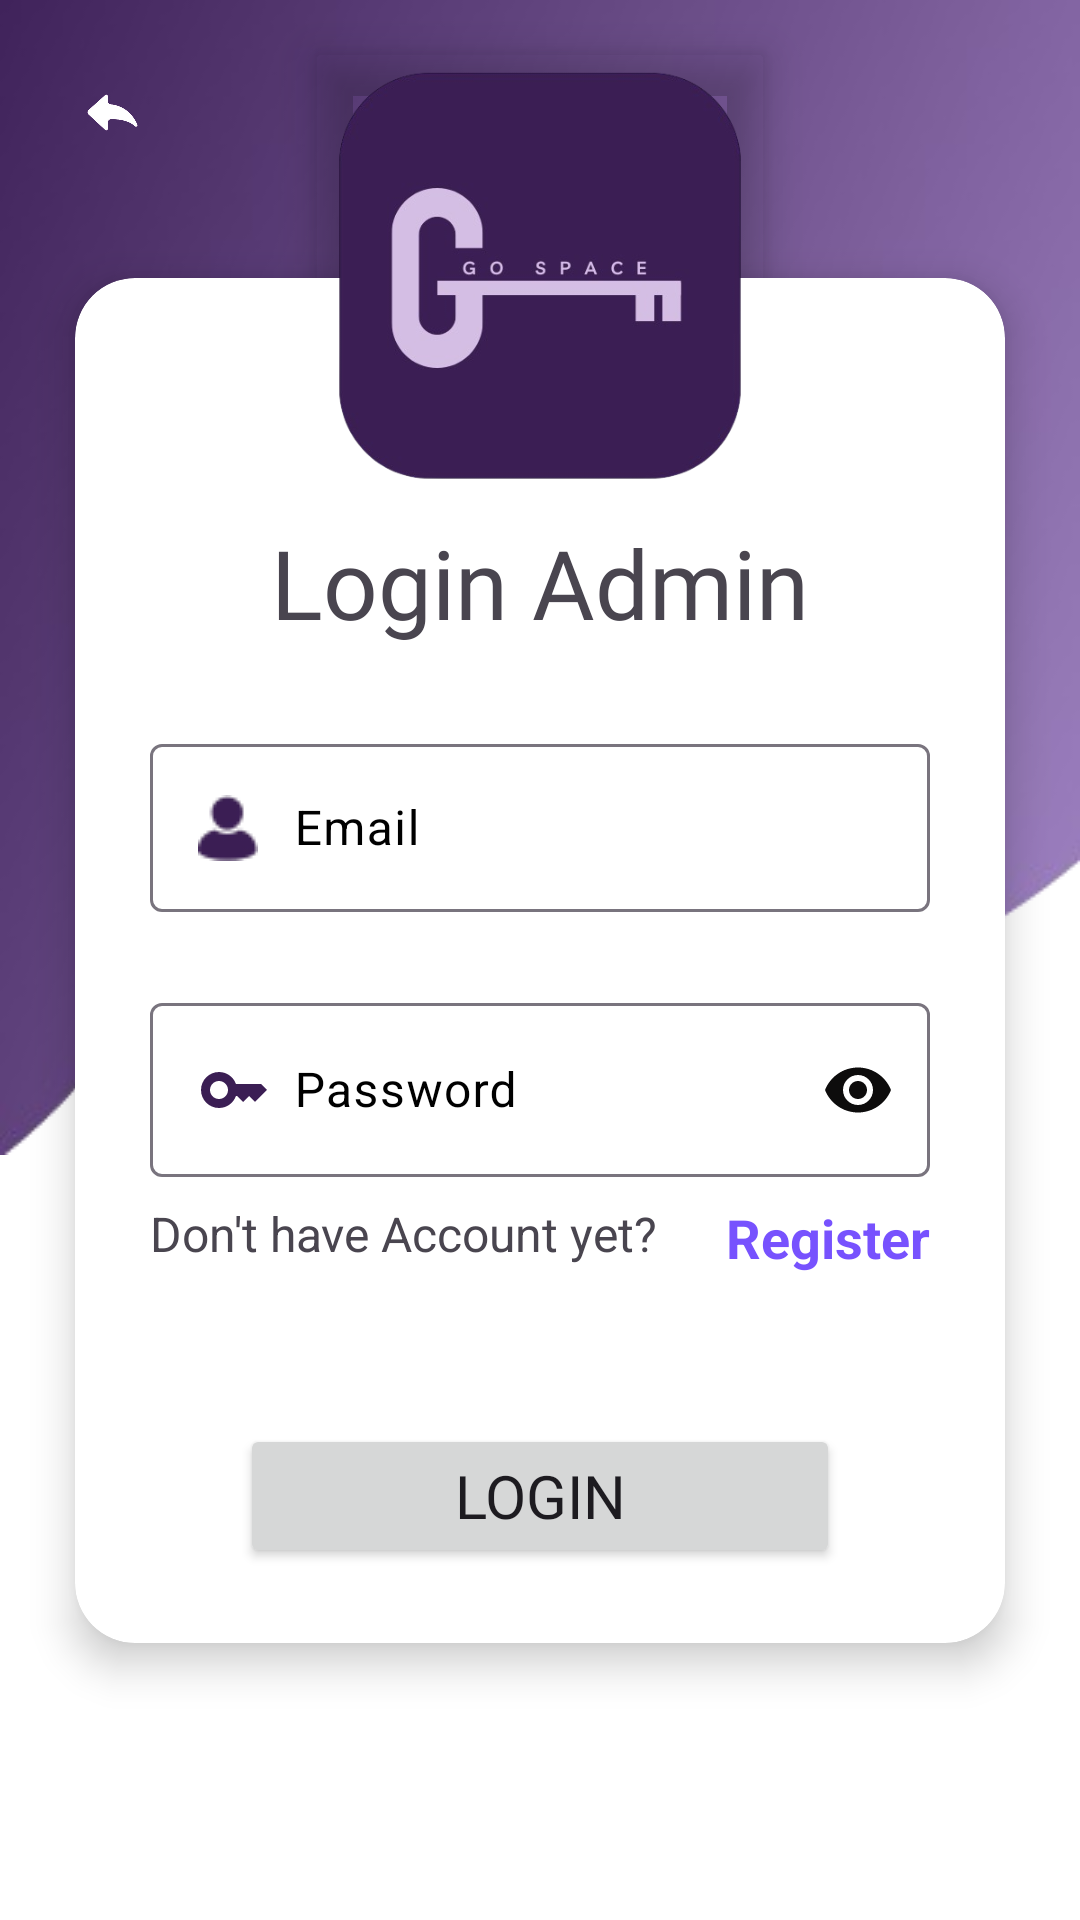

Where icons sit on this 1080w x 1920h app screen, as (x1, y1, x2, y2):
back: (87, 94, 138, 131)
